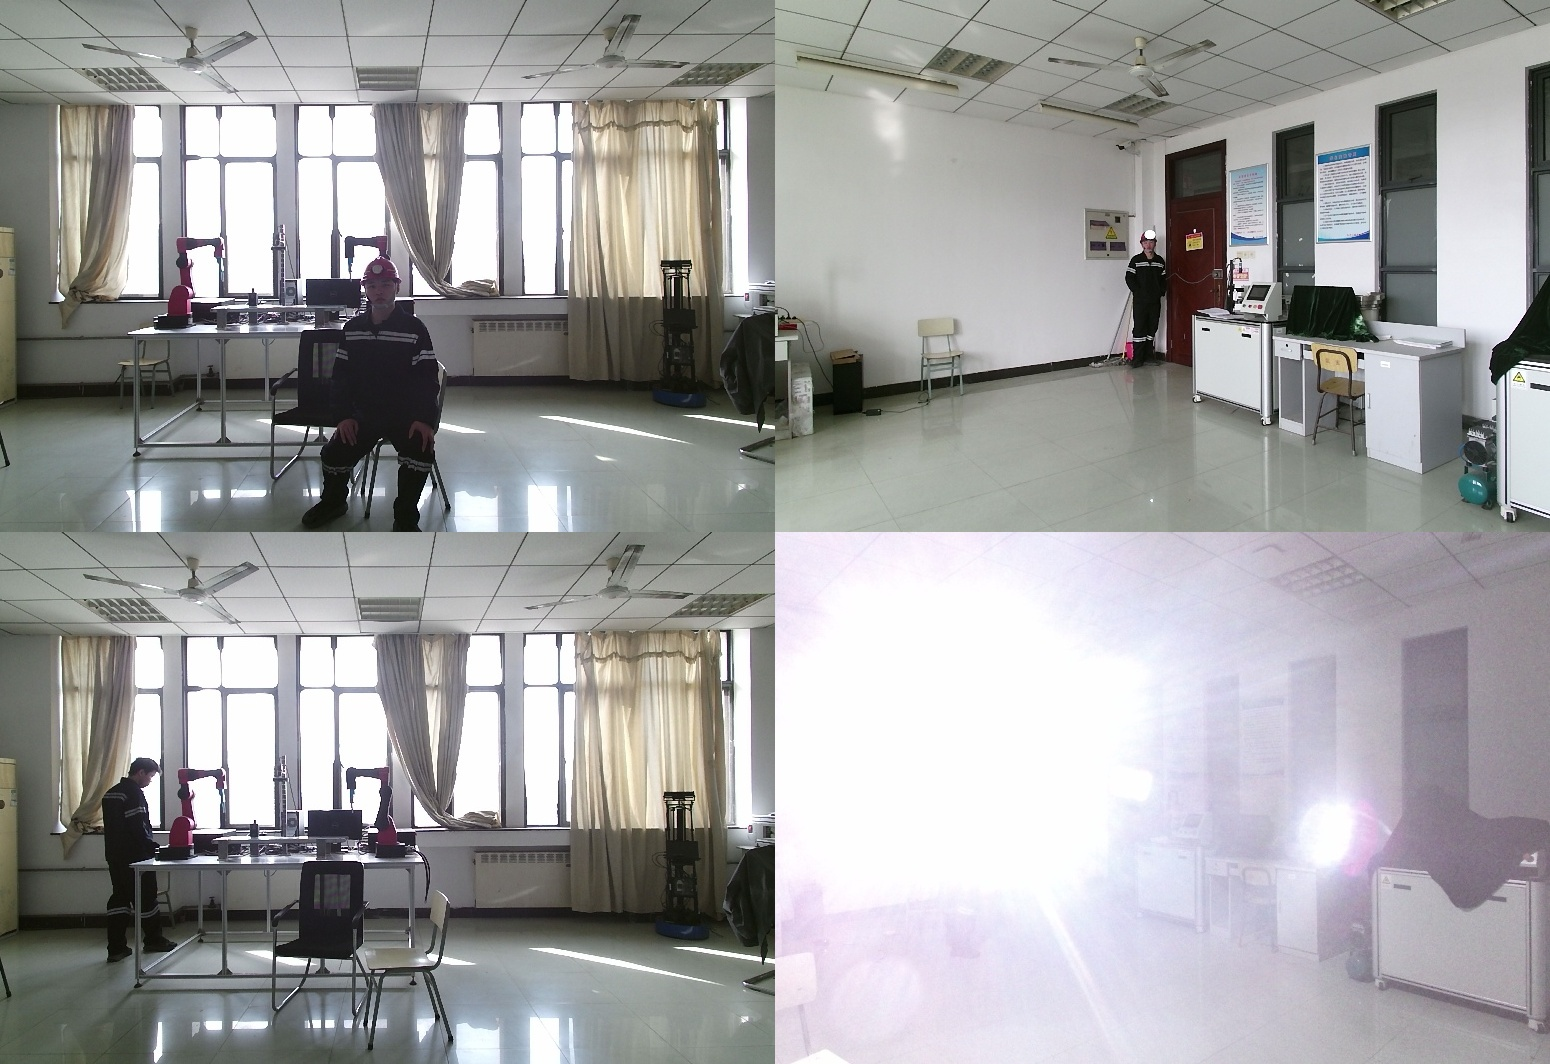person: (305, 257, 455, 532), (919, 752, 999, 975), (94, 757, 177, 963), (1124, 234, 1168, 367)
